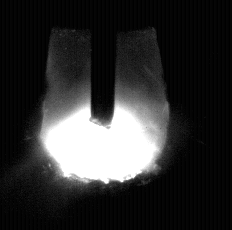arame: (91, 0, 115, 127)
poca: (38, 0, 169, 230)
